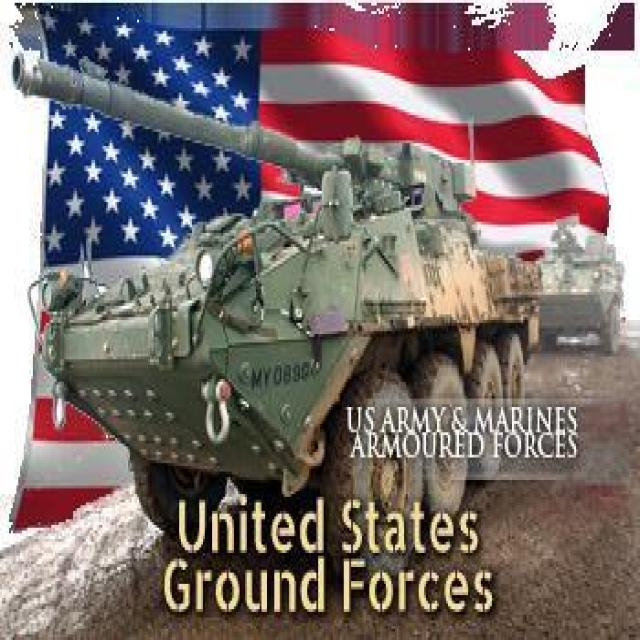Tanks: (21, 165, 562, 482)
